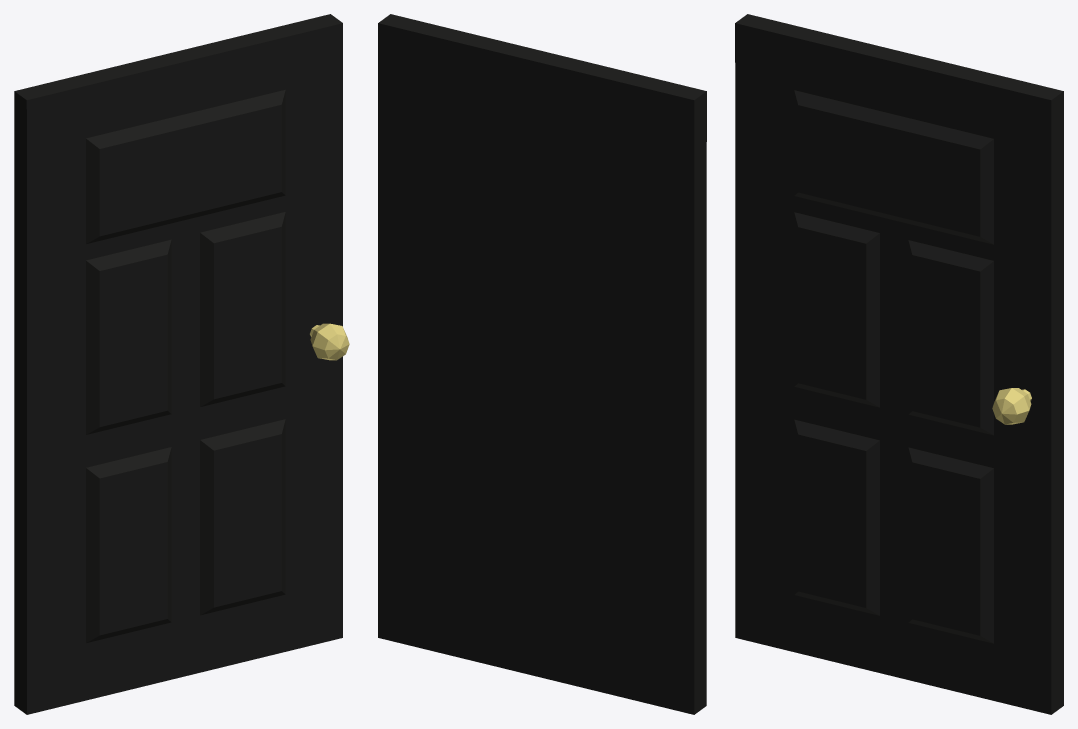
The model's file is Itr_Door_06.FBX.
3 views of the same model, side by side, from view 1: azimuth 30°, elevation 25°; view 2: azimuth 150°, elevation 25°; view 3: azimuth 330°, elevation 25° (orthographic).
Parts seen in each view (by area): view 1: Itr_Door_06; view 2: Itr_Door_06; view 3: Itr_Door_06.
Part boxes in pixels (x1,y1,x2,y2): Itr_Door_06: (14,14,349,714); Itr_Door_06: (378,14,706,714); Itr_Door_06: (735,14,1063,714).
Size of the model in its own units: 43.59 by 80.97 by 8.56.
